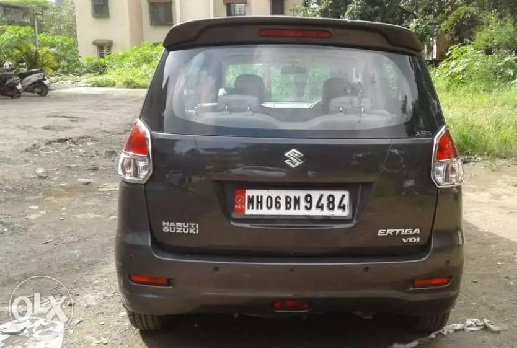licenseplate: (232, 186, 352, 223)
